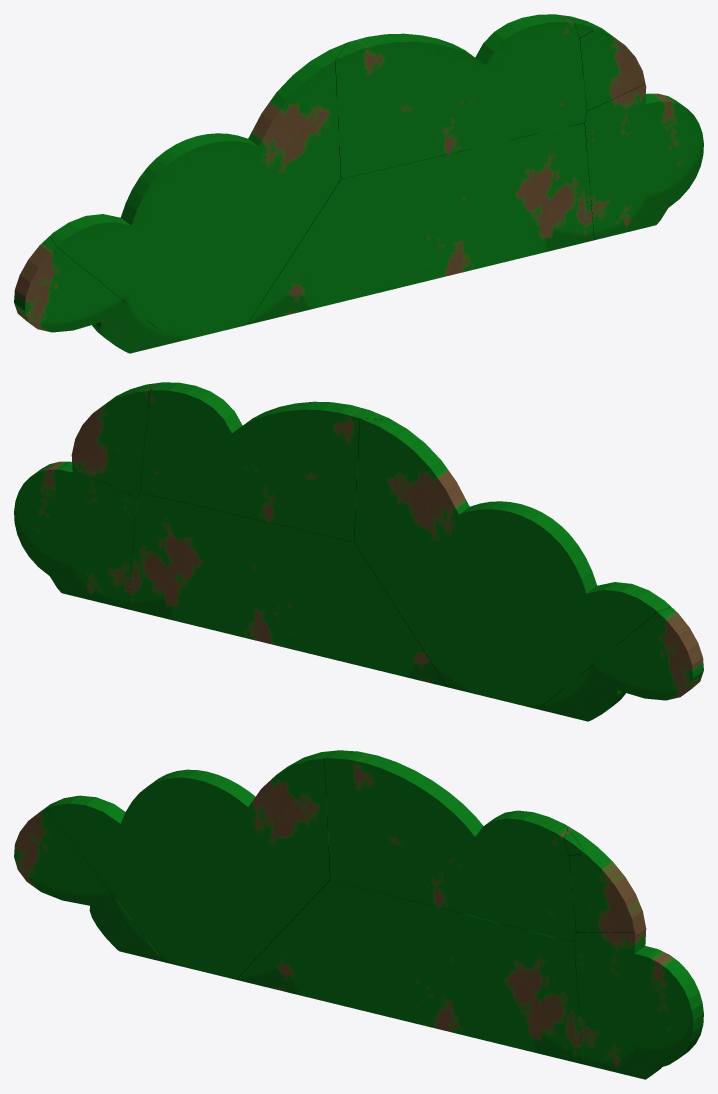
Rendered from Arbusto5.fbx.
The picture shows the model from 3 angles, top to bottom: view 1: azimuth 30°, elevation 25°; view 2: azimuth 150°, elevation 25°; view 3: azimuth 330°, elevation 25°; orthographic projection.
Visible parts, largest first — view 1: arbusto 5_cell, arbusto 5_cell.001, arbusto 5_cell.002, arbusto 5_cell.004, arbusto 5_cell.007, arbusto 5_cell.006; view 2: arbusto 5_cell, arbusto 5_cell.001, arbusto 5_cell.002, arbusto 5_cell.004, arbusto 5_cell.007, arbusto 5_cell.006; view 3: arbusto 5_cell, arbusto 5_cell.001, arbusto 5_cell.002, arbusto 5_cell.004, arbusto 5_cell.007, arbusto 5_cell.006.
Boxes of the visible parts, box(x1,y1,x2,y2) form: arbusto 5_cell: box(50, 43, 346, 342); arbusto 5_cell.001: box(247, 122, 593, 324); arbusto 5_cell.002: box(335, 14, 586, 178); arbusto 5_cell.004: box(584, 84, 703, 240); arbusto 5_cell.007: box(14, 236, 174, 353); arbusto 5_cell.006: box(557, 14, 645, 111); arbusto 5_cell: box(354, 418, 670, 709); arbusto 5_cell.001: box(128, 489, 447, 687); arbusto 5_cell.002: box(140, 382, 392, 541); arbusto 5_cell.004: box(14, 461, 141, 609); arbusto 5_cell.007: box(538, 607, 703, 721); arbusto 5_cell.006: box(71, 388, 149, 497); arbusto 5_cell: box(47, 750, 357, 979); arbusto 5_cell.001: box(236, 880, 583, 1064); arbusto 5_cell.002: box(324, 751, 576, 941); arbusto 5_cell.004: box(574, 932, 703, 1079); arbusto 5_cell.007: box(14, 800, 163, 961); arbusto 5_cell.006: box(568, 826, 646, 940).
Size of the model in its own units: 642 by 224 by 17.73.
